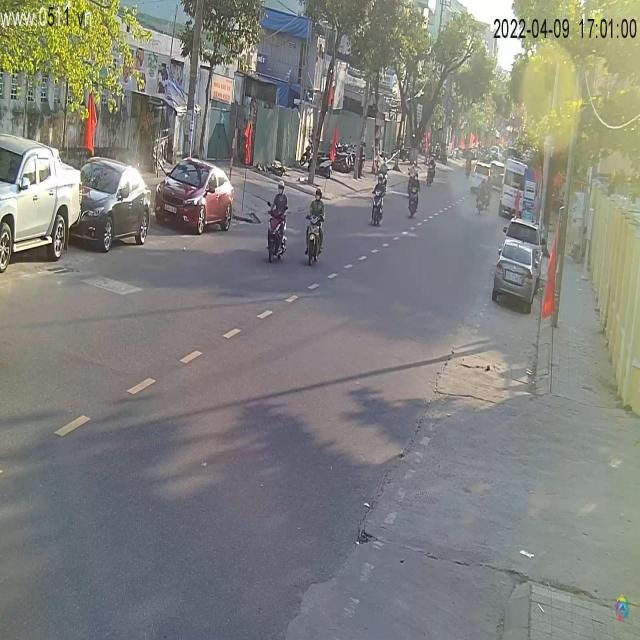car: (1, 131, 84, 278), (74, 159, 155, 253), (156, 162, 236, 236), (492, 234, 544, 315)
motorcycle: (263, 194, 288, 263), (303, 202, 326, 264), (370, 178, 385, 227), (405, 177, 420, 220)
